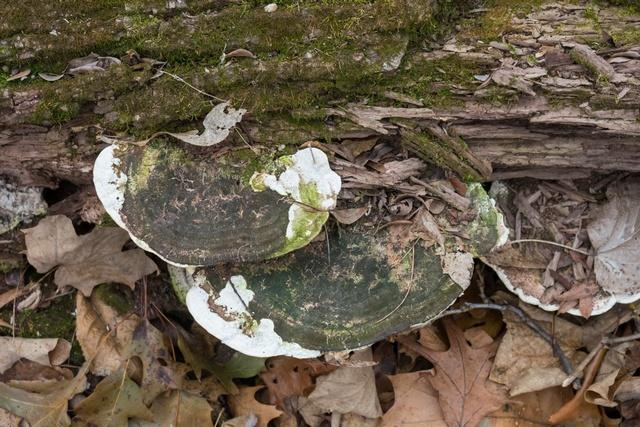Non-edible Mushroom: (91, 130, 508, 359)
